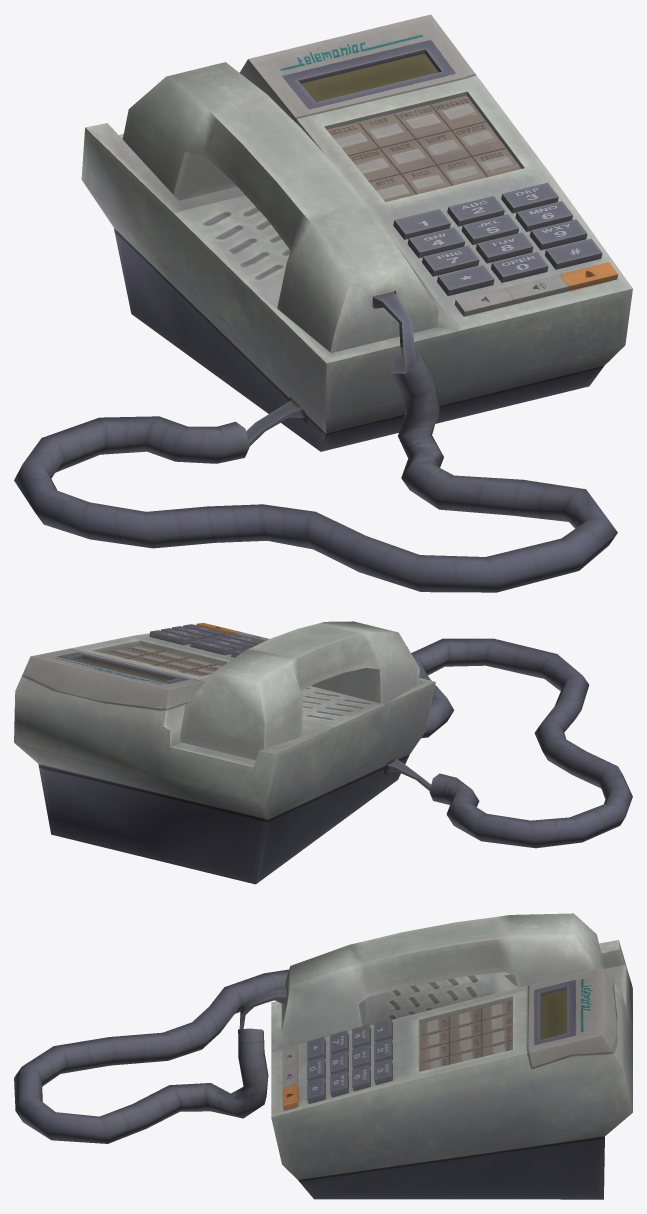
The model's file is office_phone.glb.
3 views of the same model, one above another, from view 1: azimuth 30°, elevation 25°; view 2: azimuth 150°, elevation 25°; view 3: azimuth 270°, elevation 25° (orthographic). The views are drawn at different scales.
Visible parts, largest first — view 1: MSH_OfficePhone; view 2: MSH_OfficePhone; view 3: MSH_OfficePhone.
Part boxes in pixels (x1,y1,x2,y2): MSH_OfficePhone: (14,14,632,592); MSH_OfficePhone: (14,621,632,884); MSH_OfficePhone: (14,913,632,1199).
Bounding box in the file's own units: 0.3328 × 0.1318 × 0.388.
1 material, 1 textured.
